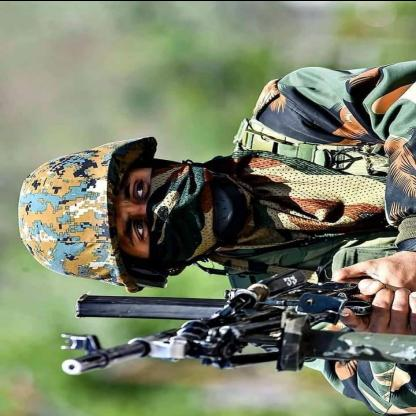rifle: (56, 265, 416, 377)
